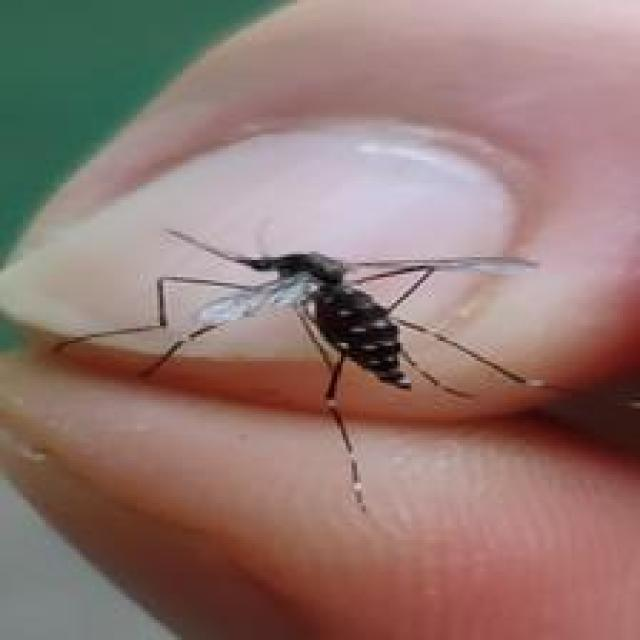Aedes albopictus: (50, 221, 550, 513)
